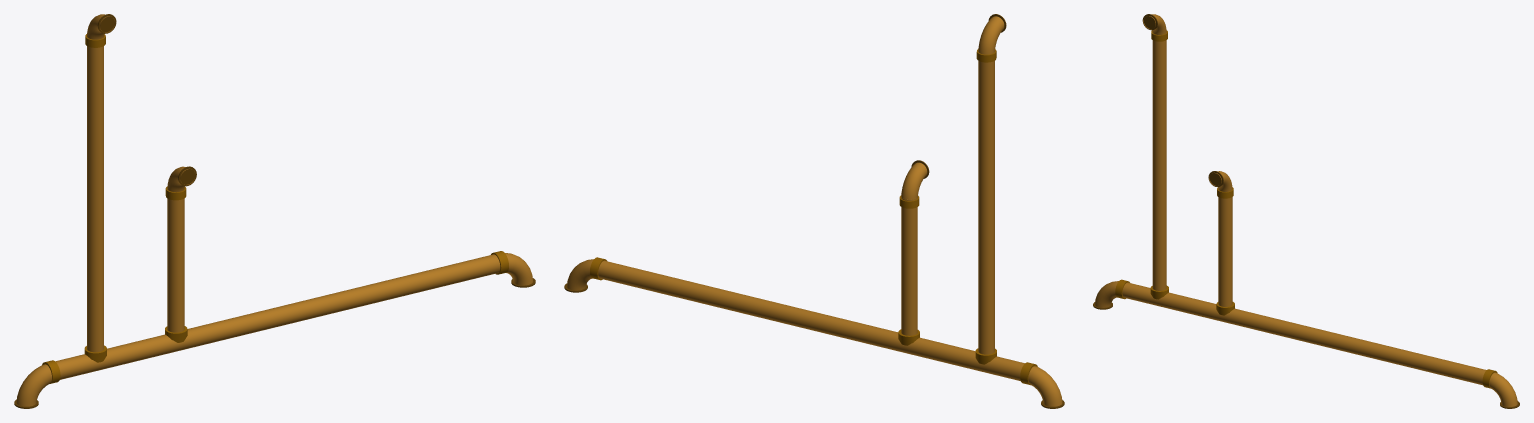
File: Pipes5.fbx
The picture shows the model from 3 angles, left to right: view 1: azimuth 30°, elevation 25°; view 2: azimuth 150°, elevation 25°; view 3: azimuth 330°, elevation 25°; orthographic projection. The views are drawn at different scales.
Visible parts, largest first — view 1: pCylinder16; view 2: pCylinder16; view 3: pCylinder16.
Part boxes in pixels (x1=…): pCylinder16: x1=14, y1=14, x2=535, y2=408; pCylinder16: x1=564, y1=14, x2=1064, y2=408; pCylinder16: x1=1093, y1=14, x2=1519, y2=408.
Bounding box in the file's own units: 1458 × 1026 × 89.95.
